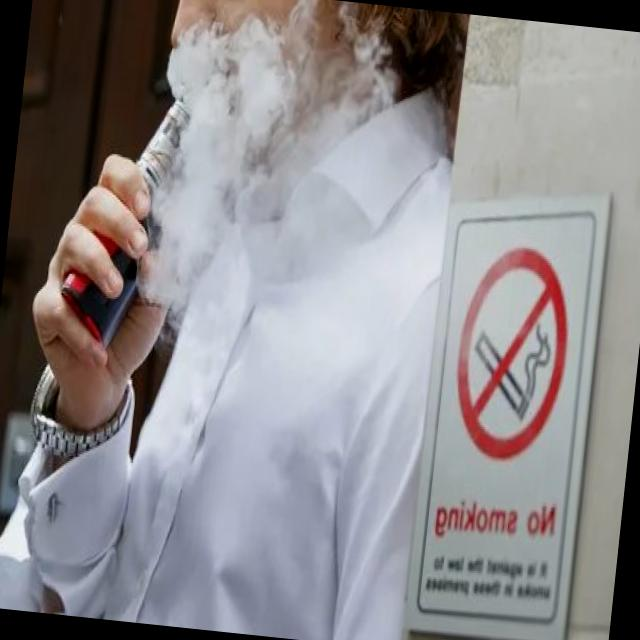smoke: (50, 77, 212, 370)
